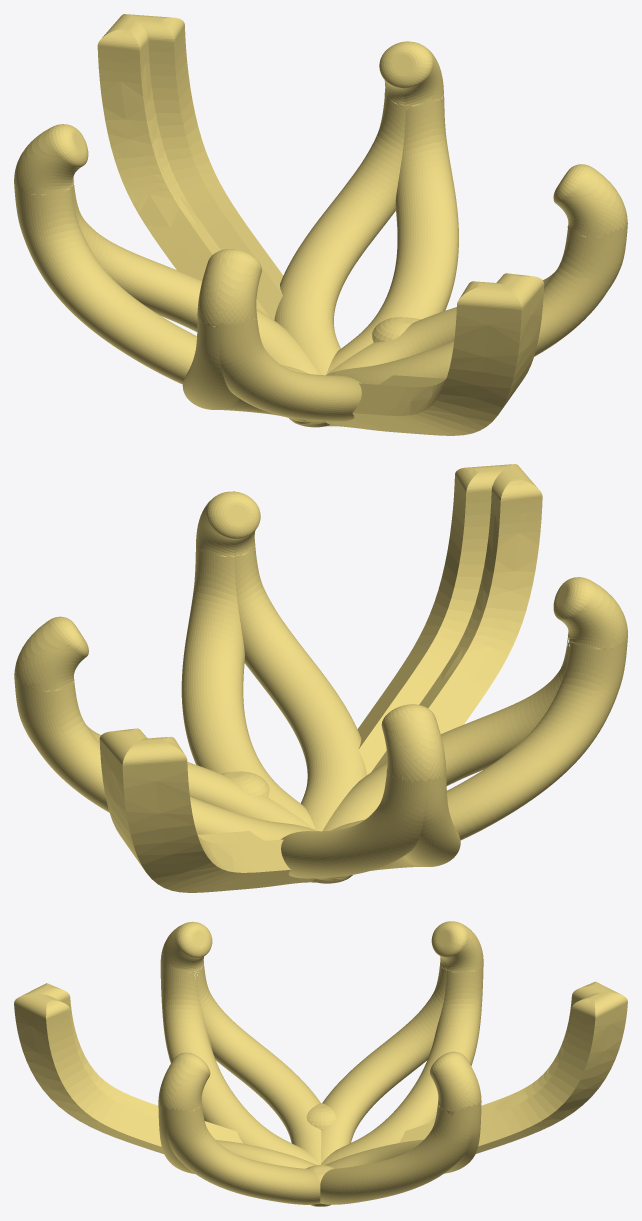
The model's file is MAR_MA_019_HEAD.glb.
The picture shows the model from 3 angles, top to bottom: view 1: azimuth 30°, elevation 25°; view 2: azimuth 150°, elevation 25°; view 3: azimuth 270°, elevation 25°; orthographic projection. The views are drawn at different scales.
Parts seen in each view (by area): view 1: MAR_MA_019_NEW_STL.stl.001; view 2: MAR_MA_019_NEW_STL.stl.001; view 3: MAR_MA_019_NEW_STL.stl.001.
Part boxes in pixels (bbox=[...]): MAR_MA_019_NEW_STL.stl.001: bbox=[14, 14, 627, 435]; MAR_MA_019_NEW_STL.stl.001: bbox=[14, 464, 627, 892]; MAR_MA_019_NEW_STL.stl.001: bbox=[14, 921, 627, 1206].
Size of the model in its own units: 8.94 by 5.6 by 14.53.
